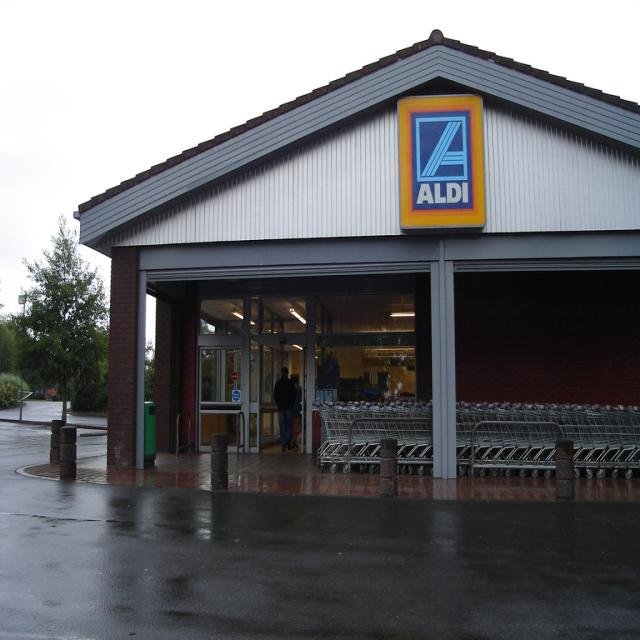aldi: (397, 97, 488, 228)
